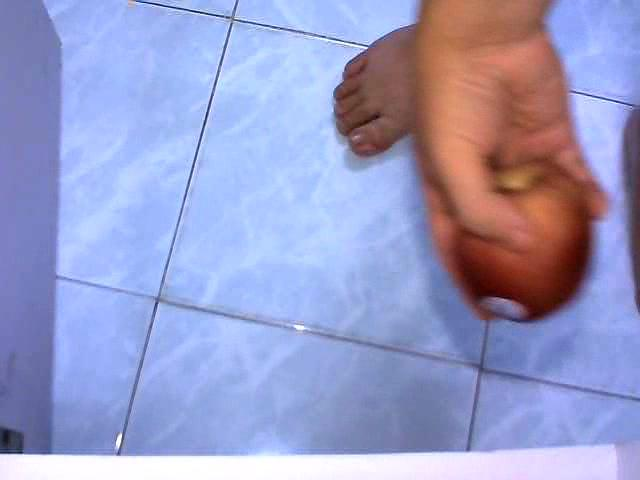apple: (451, 158, 591, 324)
